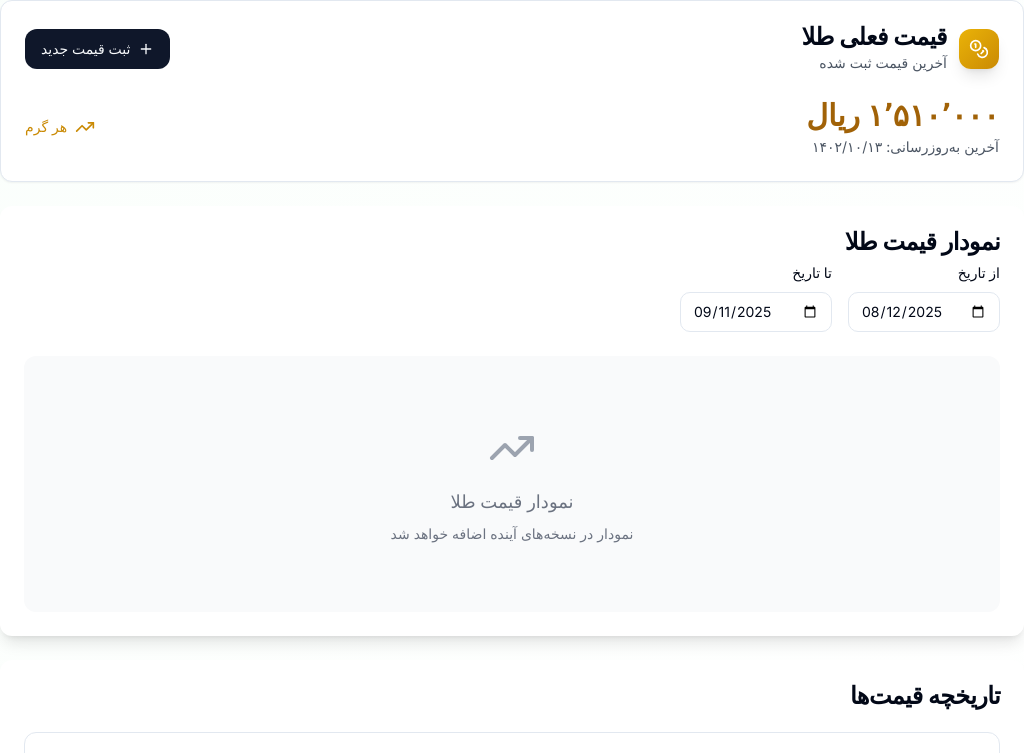
Test: GoldPriceManagement › should open create price dialog
Click the button "ثبت قیمت جدید" at (98, 49), box [25,29,170,69]
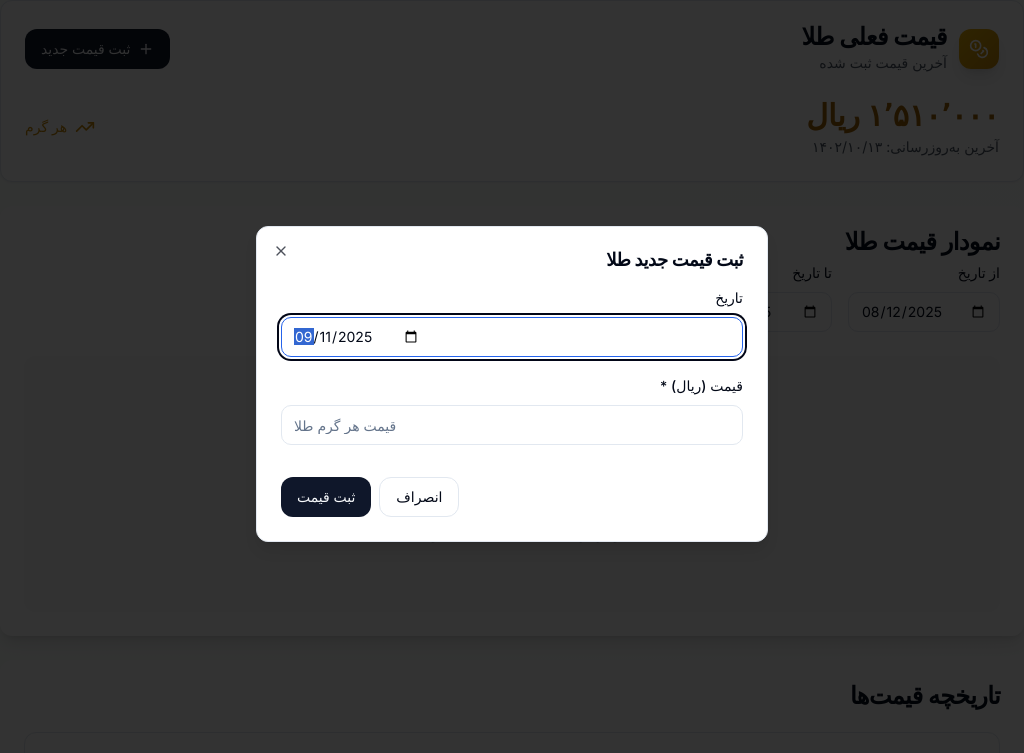
Result: the heading "ثبت قیمت جدید طلا" is shown at [606,249,743,270]
Result: the date field labelled "تاریخ" is shown at [281,317,743,357]
Result: the number field labelled "قیمت (ریال) *" is shown at [281,405,743,445]
